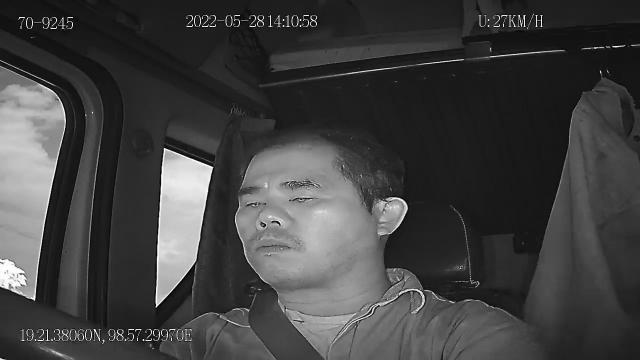SafeDriving: (280, 180, 327, 210), (238, 189, 272, 215)
Seatbelt: (244, 286, 330, 360)
